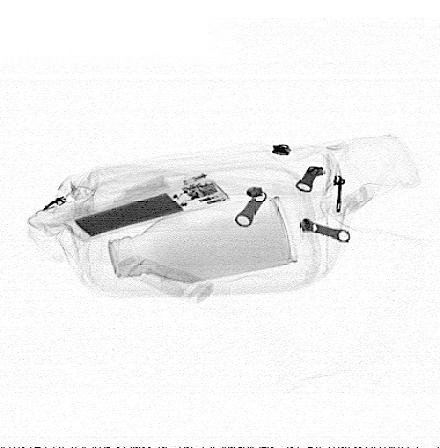Powerbank: (60, 170, 230, 245)
